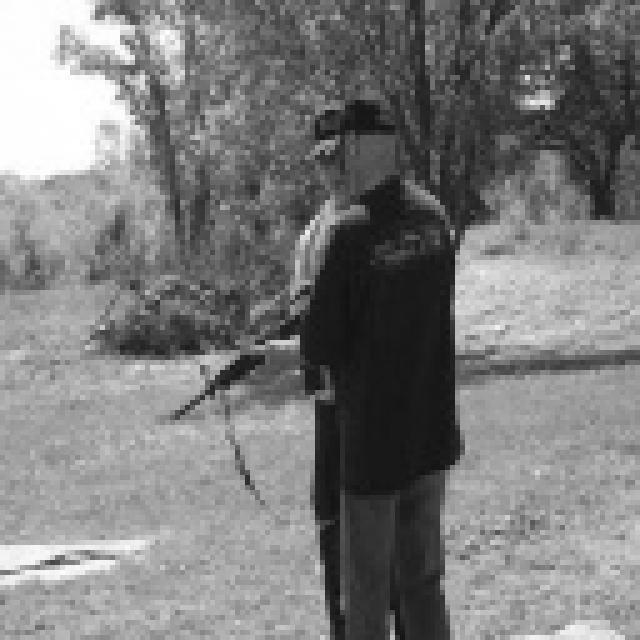Rifle: (158, 269, 346, 506)
